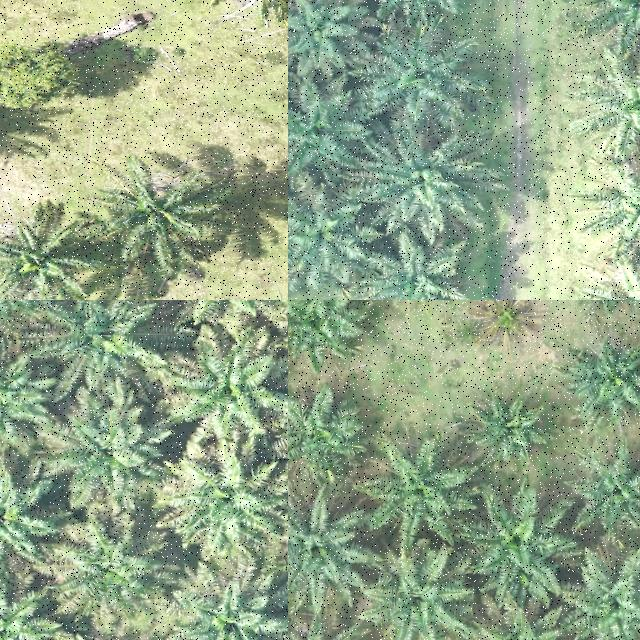Ganoderma: (478, 300, 529, 341)
